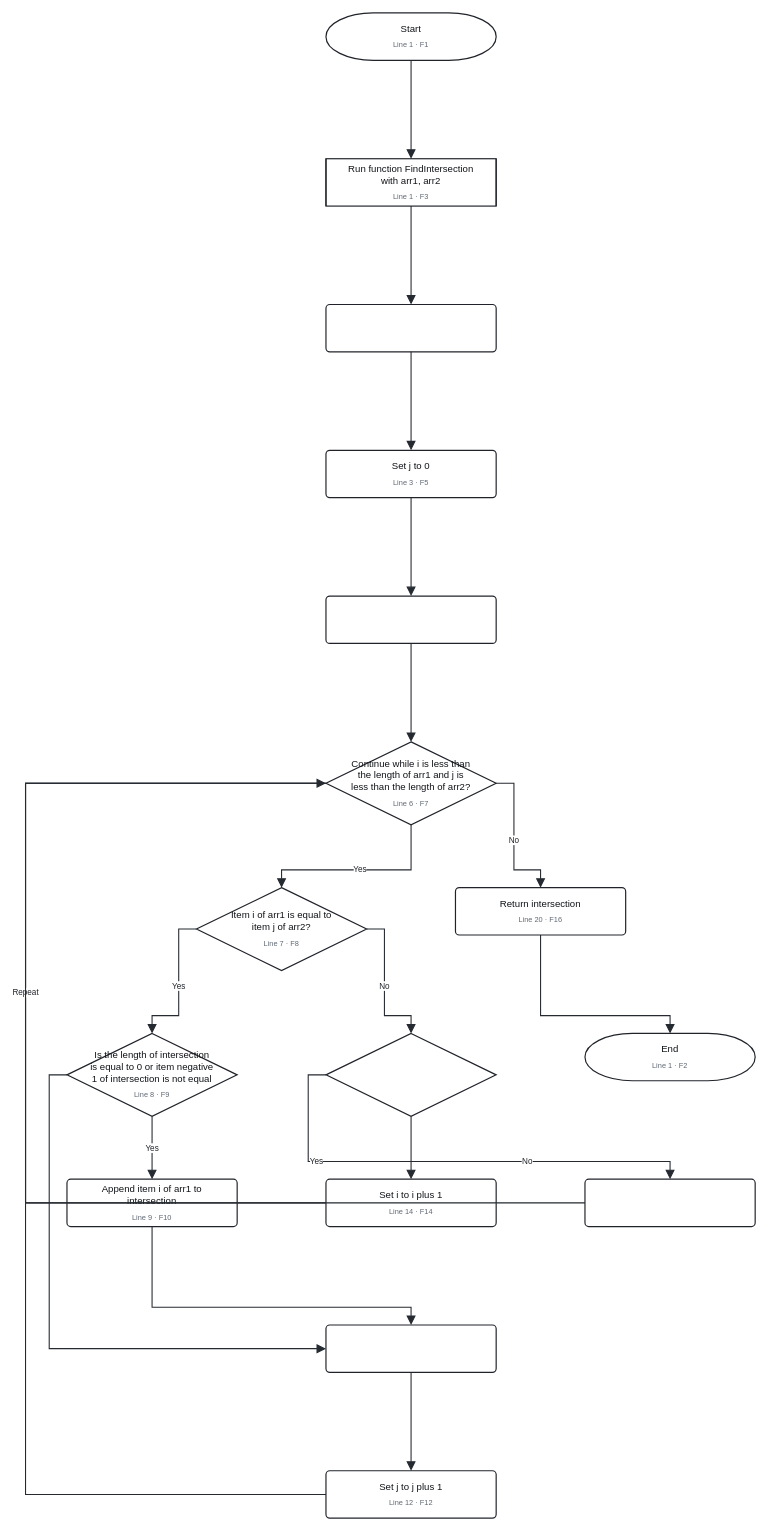
Image size: 769x1532. Some labels were removed from this diagram. Here are the shapes that lost their labels. From the top down, the centre of each, then its label:
At point 410,328: "Set i to 0 Line 2 · F4".
At point 410,619: "Set intersection to an empty list Line 4 · F6".
At point 410,1074: "Item i of arr1 is less than item j of arr2? Line 13 · F13".
At point 669,1202: "Set j to j plus 1 Line 16 · F15".
At point 410,1348: "Set i to i plus 1 Line 11 · F11".
